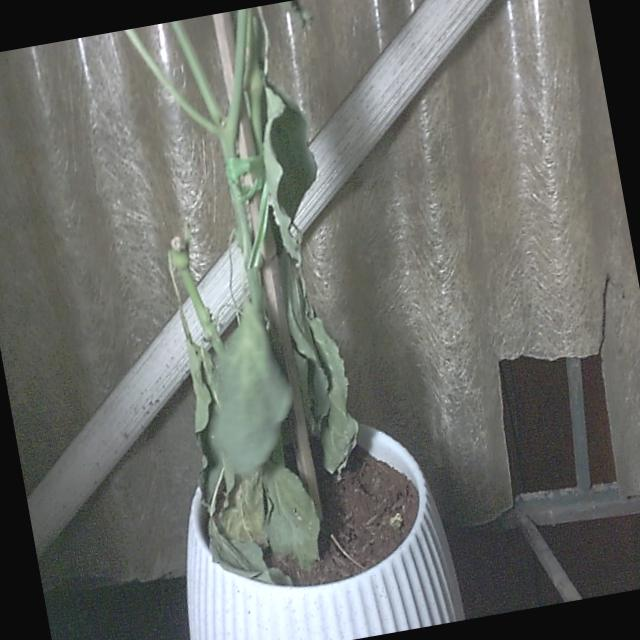Leaf: (207, 303, 291, 475), (262, 83, 316, 265), (308, 317, 358, 473), (262, 465, 318, 569)
